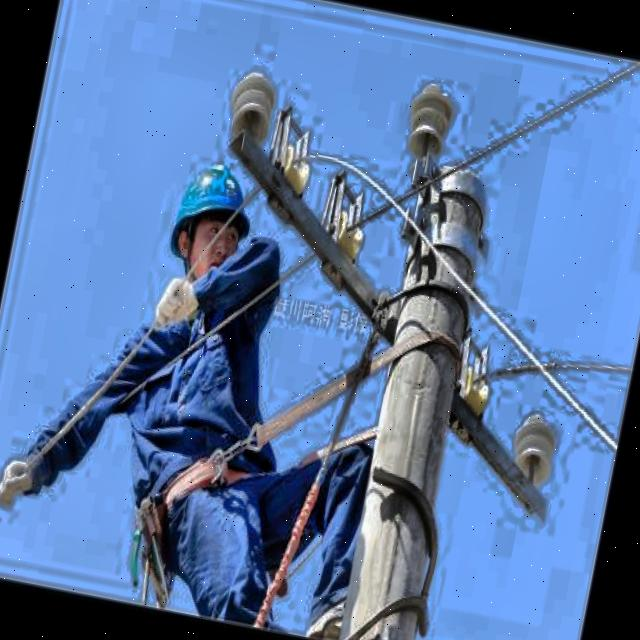helmet: (160, 142, 264, 288)
